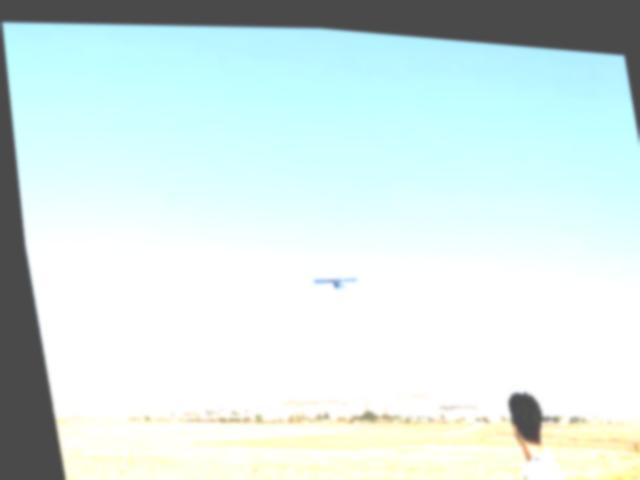uav: (304, 264, 356, 292)
